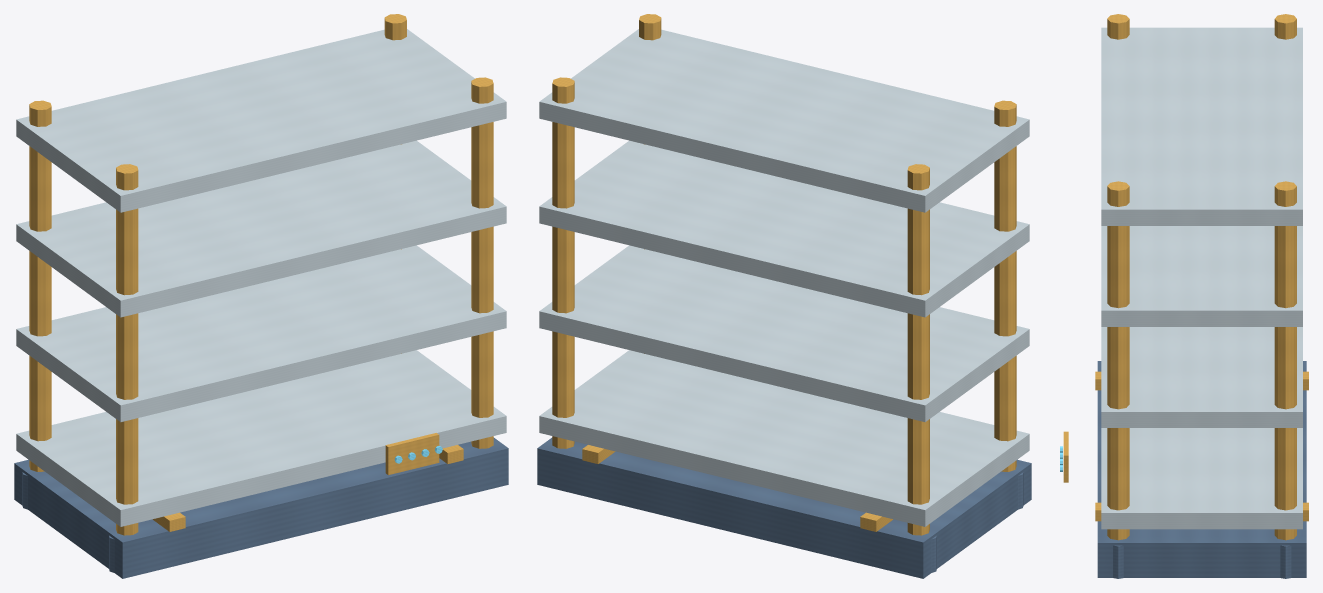
Rendered from atlas100-s054-a06.glb.
The picture shows the model from 3 angles, left to right: view 1: azimuth 30°, elevation 25°; view 2: azimuth 150°, elevation 25°; view 3: azimuth 270°, elevation 25°; orthographic projection. The views are drawn at different scales.
Visible parts, largest first — view 1: atlas100-s054-a06:part-014, atlas100-s054-a06:part-012, atlas100-s054-a06:part-013, atlas100-s054-a06:part-011, atlas100-s054-a06:part-000, atlas100-s054-a06:part-005, atlas100-s054-a06:part-009, atlas100-s054-a06:part-003, atlas100-s054-a06:part-015; view 2: atlas100-s054-a06:part-014, atlas100-s054-a06:part-011, atlas100-s054-a06:part-012, atlas100-s054-a06:part-013, atlas100-s054-a06:part-000, atlas100-s054-a06:part-003, atlas100-s054-a06:part-007, atlas100-s054-a06:part-005; view 3: atlas100-s054-a06:part-014, atlas100-s054-a06:part-011, atlas100-s054-a06:part-013, atlas100-s054-a06:part-012, atlas100-s054-a06:part-000, atlas100-s054-a06:part-007, atlas100-s054-a06:part-009, atlas100-s054-a06:part-005, atlas100-s054-a06:part-003, atlas100-s054-a06:part-008, atlas100-s054-a06:part-010.
Part boxes in pixels (x1=…): atlas100-s054-a06:part-014: x1=16, y1=29, x2=506, y2=212; atlas100-s054-a06:part-012: x1=16, y1=245, x2=506, y2=422; atlas100-s054-a06:part-013: x1=16, y1=140, x2=506, y2=317; atlas100-s054-a06:part-011: x1=16, y1=350, x2=506, y2=526; atlas100-s054-a06:part-000: x1=14, y1=437, x2=508, y2=578; atlas100-s054-a06:part-005: x1=116, y1=164, x2=138, y2=535; atlas100-s054-a06:part-009: x1=471, y1=77, x2=493, y2=448; atlas100-s054-a06:part-003: x1=29, y1=100, x2=51, y2=471; atlas100-s054-a06:part-015: x1=385, y1=433, x2=439, y2=475; atlas100-s054-a06:part-014: x1=539, y1=29, x2=1029, y2=212; atlas100-s054-a06:part-011: x1=539, y1=350, x2=1029, y2=526; atlas100-s054-a06:part-012: x1=539, y1=245, x2=1029, y2=422; atlas100-s054-a06:part-013: x1=539, y1=140, x2=1029, y2=317; atlas100-s054-a06:part-000: x1=537, y1=437, x2=1031, y2=578; atlas100-s054-a06:part-003: x1=907, y1=164, x2=929, y2=535; atlas100-s054-a06:part-007: x1=552, y1=77, x2=574, y2=448; atlas100-s054-a06:part-005: x1=994, y1=100, x2=1016, y2=471; atlas100-s054-a06:part-014: x1=1101, y1=27, x2=1302, y2=225; atlas100-s054-a06:part-011: x1=1101, y1=428, x2=1302, y2=529; atlas100-s054-a06:part-013: x1=1101, y1=226, x2=1302, y2=326; atlas100-s054-a06:part-012: x1=1101, y1=327, x2=1302, y2=427; atlas100-s054-a06:part-000: x1=1097, y1=361, x2=1306, y2=577; atlas100-s054-a06:part-007: x1=1274, y1=181, x2=1296, y2=540; atlas100-s054-a06:part-009: x1=1107, y1=181, x2=1129, y2=540; atlas100-s054-a06:part-005: x1=1107, y1=14, x2=1129, y2=39; atlas100-s054-a06:part-003: x1=1274, y1=14, x2=1296, y2=39; atlas100-s054-a06:part-008: x1=1280, y1=545, x2=1291, y2=578; atlas100-s054-a06:part-010: x1=1113, y1=545, x2=1123, y2=578.
Bounding box in the file's own units: 2.91 × 2.84 × 1.66.
4 materials, 4 textured.
